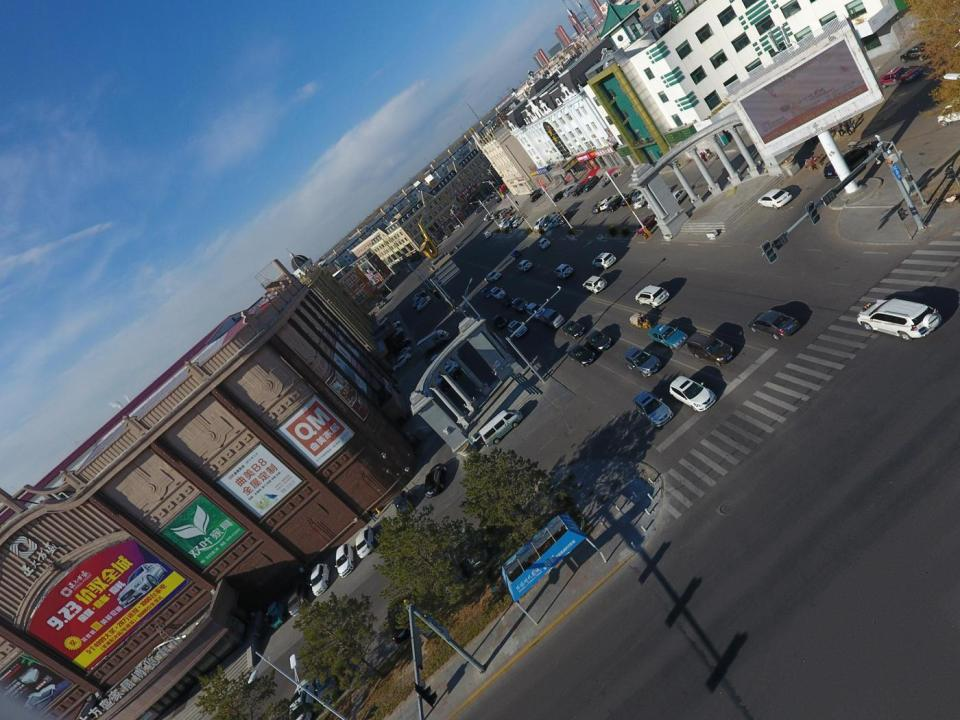car: (856, 297, 943, 343), (823, 143, 873, 179), (669, 376, 717, 413), (686, 331, 734, 366), (747, 310, 801, 339), (632, 390, 674, 427), (436, 547, 466, 595), (387, 597, 416, 643), (317, 658, 343, 707), (288, 678, 318, 720), (624, 346, 662, 376), (874, 66, 923, 88), (649, 324, 689, 350), (899, 41, 939, 63), (287, 579, 308, 618), (424, 463, 448, 497), (635, 285, 669, 309), (566, 343, 596, 369), (757, 188, 793, 209), (354, 525, 376, 558), (430, 364, 458, 388), (336, 543, 354, 578), (312, 563, 330, 597), (585, 330, 612, 352), (647, 186, 671, 210), (438, 367, 460, 391), (636, 212, 661, 233), (582, 275, 608, 295), (393, 490, 412, 517), (429, 360, 454, 380), (562, 320, 587, 340), (634, 189, 657, 209), (592, 252, 617, 270), (621, 186, 642, 206), (670, 187, 691, 206), (427, 353, 448, 371), (507, 320, 528, 338), (393, 352, 411, 372), (607, 194, 627, 212), (526, 302, 546, 320), (600, 194, 618, 212), (554, 263, 573, 280), (597, 173, 618, 188), (632, 185, 650, 202), (393, 338, 412, 354), (591, 198, 609, 214), (583, 175, 599, 192), (511, 298, 530, 312), (394, 347, 411, 361), (552, 188, 569, 202), (534, 214, 548, 231), (493, 315, 508, 330), (563, 183, 579, 197), (573, 183, 589, 197), (543, 211, 556, 228), (383, 318, 397, 333), (499, 293, 515, 306), (517, 259, 532, 272), (386, 320, 402, 332), (548, 214, 560, 229), (491, 287, 506, 299), (418, 298, 431, 311), (390, 327, 403, 340), (507, 214, 520, 227), (481, 288, 495, 300), (530, 190, 545, 201), (486, 271, 501, 282), (418, 295, 430, 308), (538, 237, 551, 249), (508, 217, 522, 228), (499, 216, 512, 227), (417, 296, 428, 308), (494, 208, 506, 219), (502, 217, 514, 228), (512, 217, 524, 228), (413, 297, 424, 308), (510, 249, 521, 260), (412, 293, 423, 303), (488, 210, 500, 219), (530, 189, 542, 198), (486, 211, 495, 222), (491, 210, 502, 219), (483, 196, 494, 204), (492, 186, 502, 194), (494, 196, 504, 204), (474, 207, 485, 214), (484, 212, 492, 220), (501, 188, 510, 195), (382, 298, 390, 305), (442, 233, 450, 240), (454, 223, 462, 230), (484, 231, 492, 238), (386, 275, 392, 282), (487, 194, 494, 200)
truck: (418, 329, 451, 356), (538, 308, 564, 328)
van: (479, 408, 524, 448), (461, 525, 487, 568), (558, 209, 576, 226), (552, 212, 567, 228), (415, 291, 428, 302), (498, 208, 509, 219), (375, 302, 382, 310)
